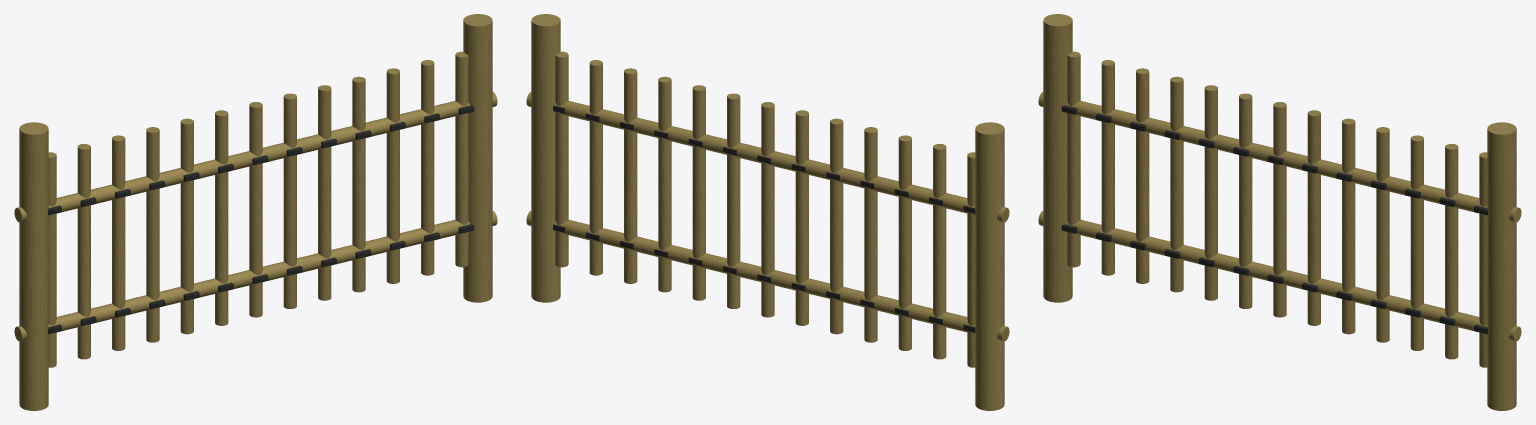
Rendered from fence.glb.
3 views of the same model, side by side, from view 1: azimuth 30°, elevation 25°; view 2: azimuth 150°, elevation 25°; view 3: azimuth 330°, elevation 25° (orthographic).
Parts seen in each view (by area): view 1: fence; view 2: fence; view 3: fence.
Boxes of the visible parts, <box> form: fence: <box>14,14,497,410</box>; fence: <box>526,14,1009,410</box>; fence: <box>1038,14,1521,410</box>.
Size of the model in its own units: 1.8 by 1 by 0.096.
2 materials, 2 textured.
